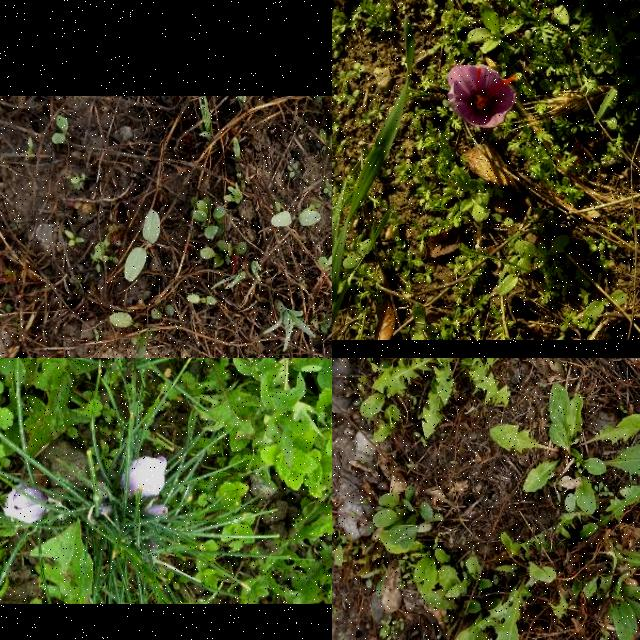flower: (448, 64, 518, 130), (120, 456, 168, 498), (4, 484, 48, 524)
